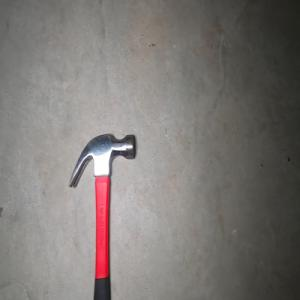Hammer: (67, 132, 136, 300)
